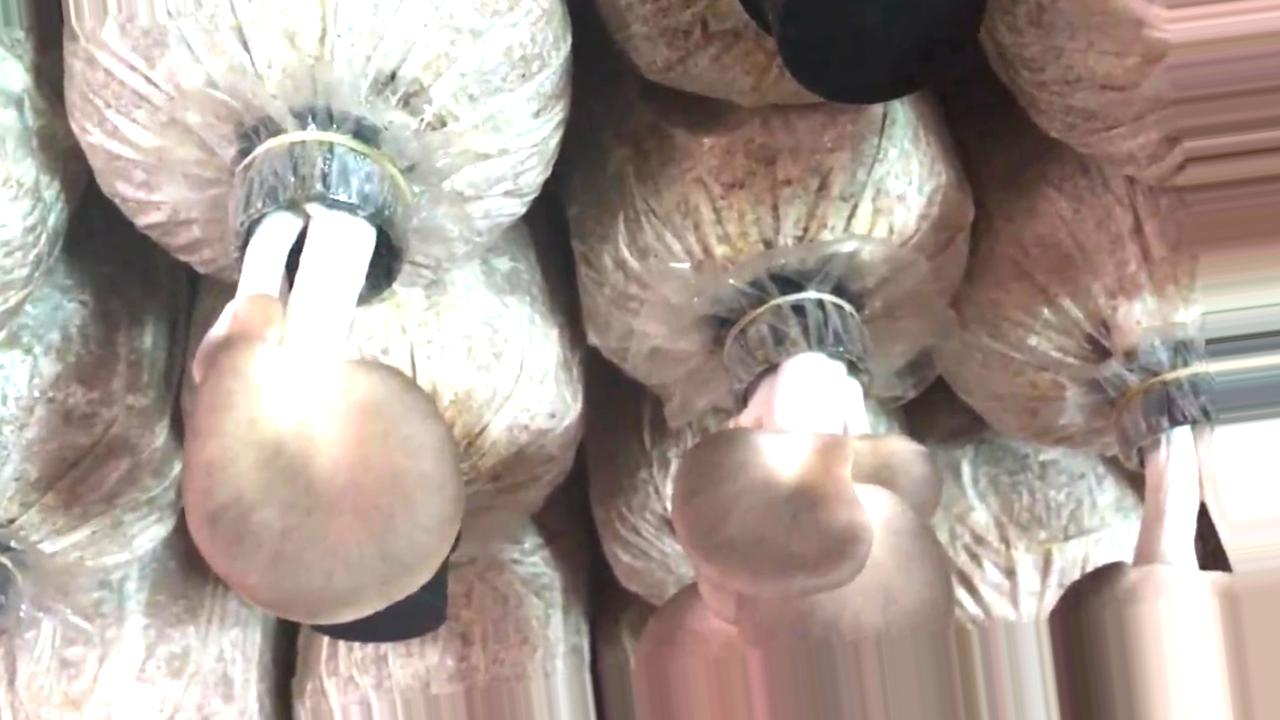nam: (632, 299, 956, 719), (180, 135, 459, 621), (1050, 362, 1279, 719)
